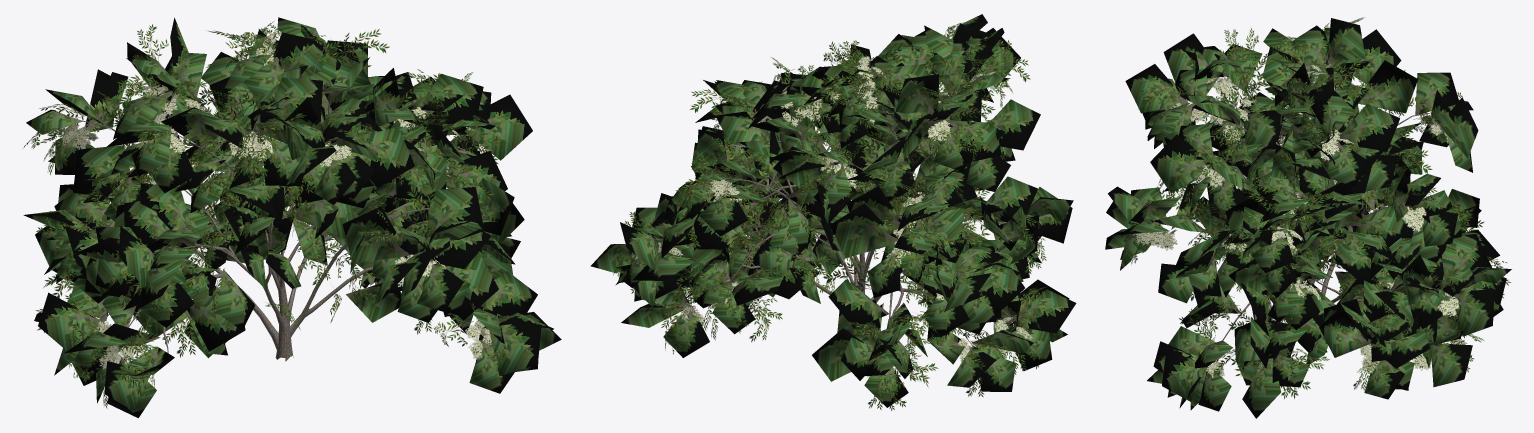
Rendered from ElderBerry.glb.
3 views of the same model, side by side, from view 1: azimuth 30°, elevation 25°; view 2: azimuth 150°, elevation 25°; view 3: azimuth 270°, elevation 25° (orthographic). The views are drawn at different scales.
Parts seen in each view (by area): view 1: ElderBerry; view 2: ElderBerry; view 3: ElderBerry.
Boxes of the visible parts, x1,y1,x2,y2 form: ElderBerry: (22, 17, 561, 418); ElderBerry: (590, 14, 1076, 410); ElderBerry: (1105, 17, 1511, 418).
Bounding box in the file's own units: 3.87 × 2.92 × 3.64.
Materials: 5 (5 with a texture image).
